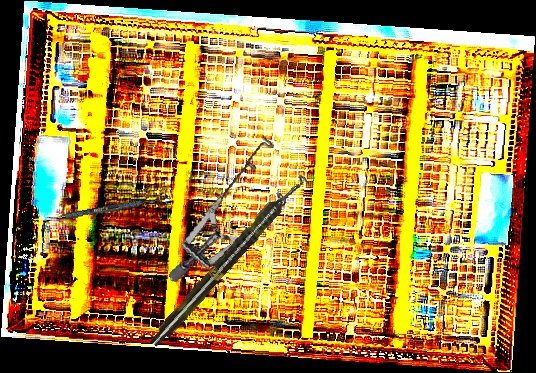Handpiece: (146, 177, 305, 351)
Spatula Surgical: (29, 192, 172, 228)
Speculum: (143, 127, 324, 284)
